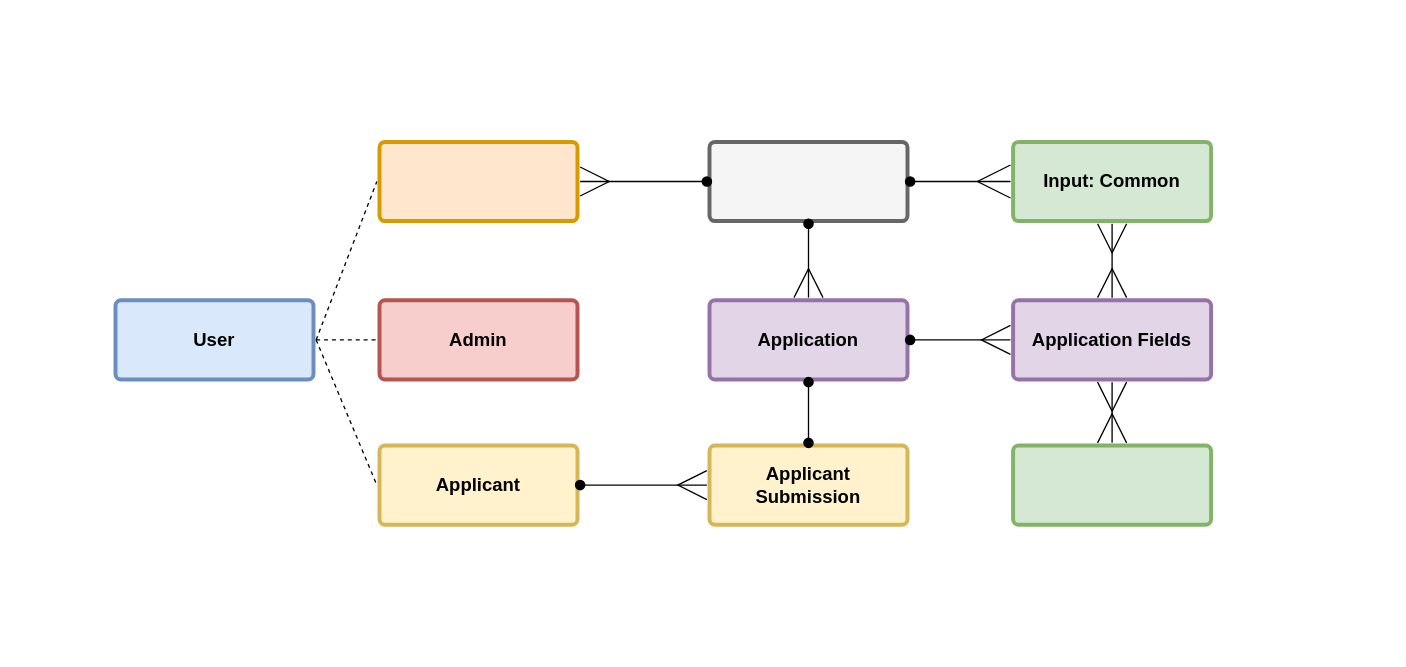
This 1406x667 diagram has some shape labels left out. The shapes that lost their labels are listed below. From the top down, each one's centre as x and y in pixels, then its label:
the point at 478,180: Manager
the point at 808,180: Tenant
the point at 1111,484: Input: Custom
